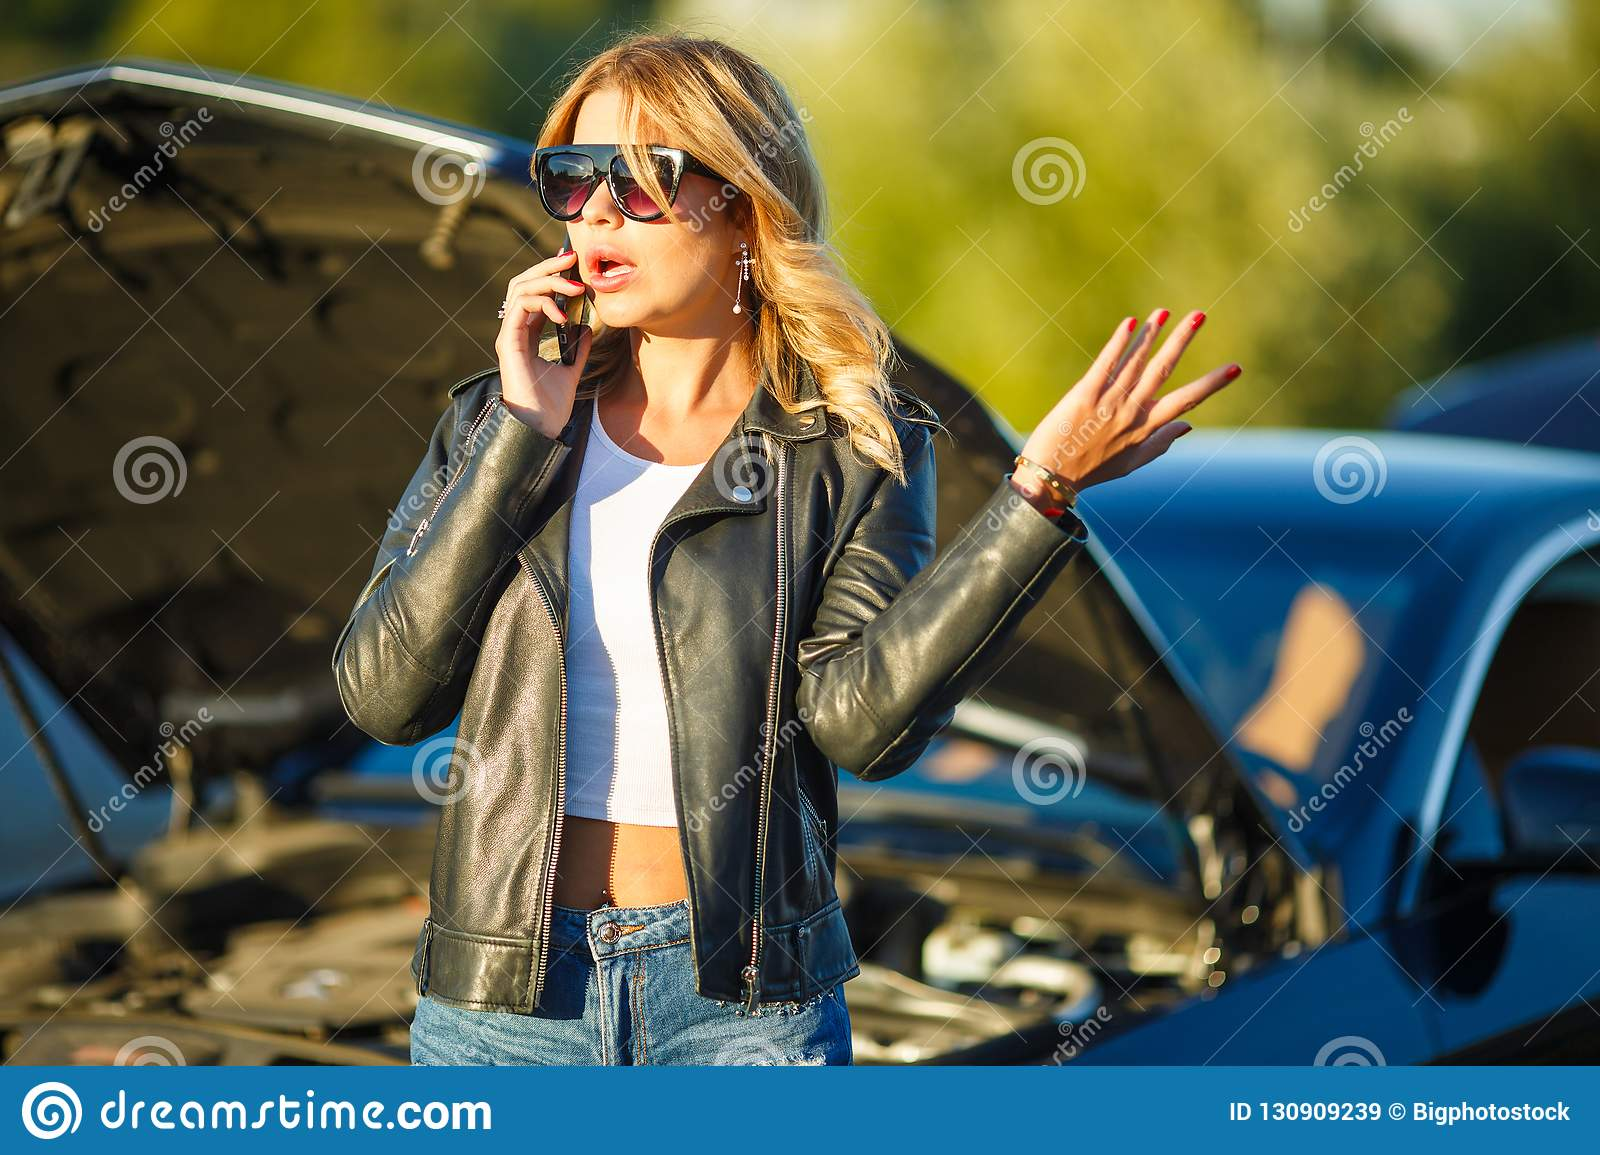phone: (552, 232, 593, 378)
talk: (492, 133, 711, 431)
